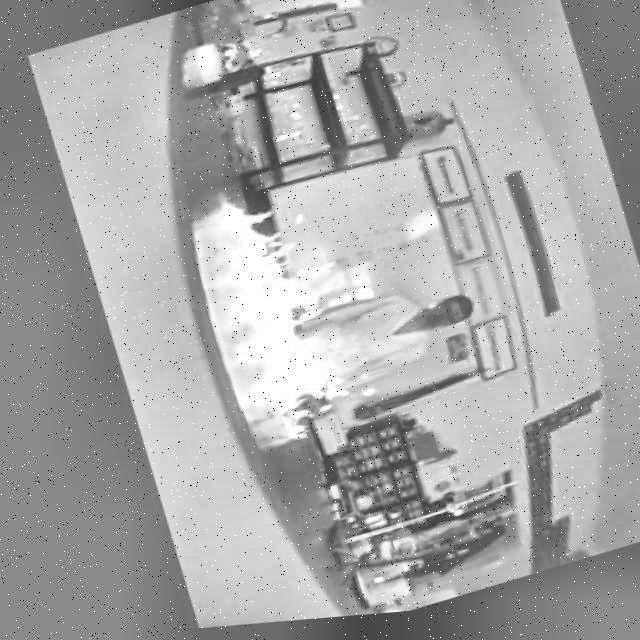Fire: (198, 165, 378, 461)
